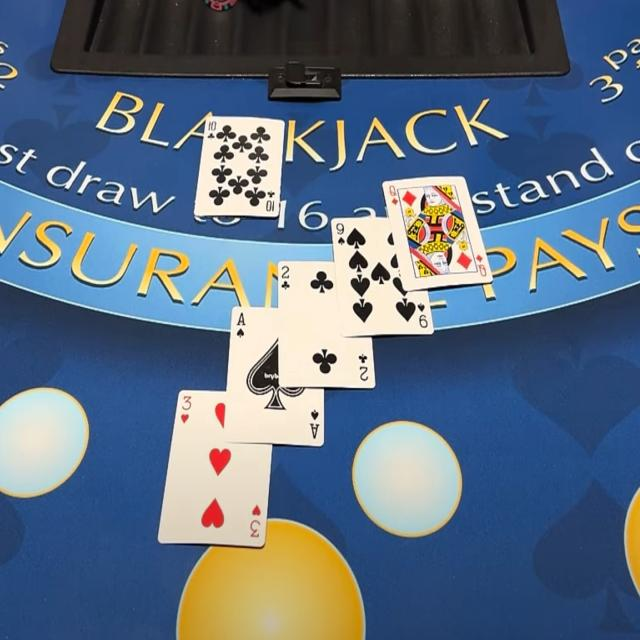10: (207, 120, 217, 132)
2: (279, 264, 293, 281)
3: (180, 392, 192, 412)
9: (334, 220, 346, 236)
A: (234, 309, 249, 328)
Q: (387, 185, 398, 198)
